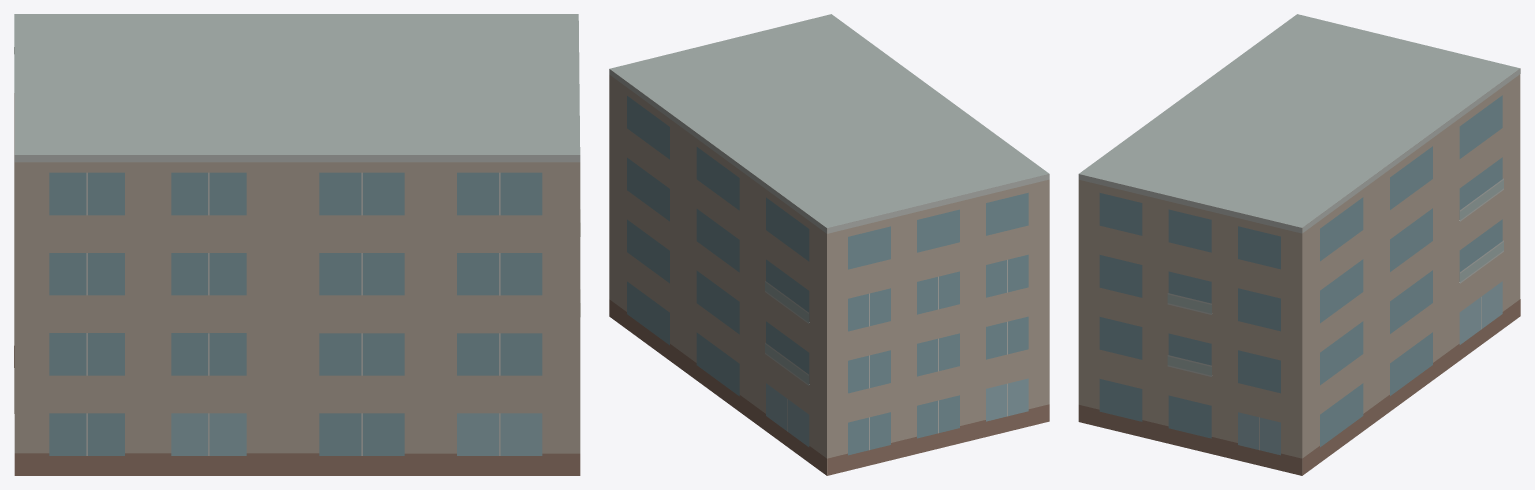
Rendered from survey-upis-32622315.glb.
3 views of the same model, side by side, from view 1: azimuth 30°, elevation 25°; view 2: azimuth 150°, elevation 25°; view 3: azimuth 270°, elevation 25° (orthographic). The views are drawn at different scales.
Visible parts, largest first — view 1: survey-upis-32622315.tmp; view 2: survey-upis-32622315.tmp; view 3: survey-upis-32622315.tmp.
Part boxes in pixels (<box>): survey-upis-32622315.tmp: <box>14,14,580,475</box>; survey-upis-32622315.tmp: <box>609,14,1049,475</box>; survey-upis-32622315.tmp: <box>1078,14,1520,475</box>.
Bounding box in the file's own units: 19.69 × 10.64 × 17.19.
